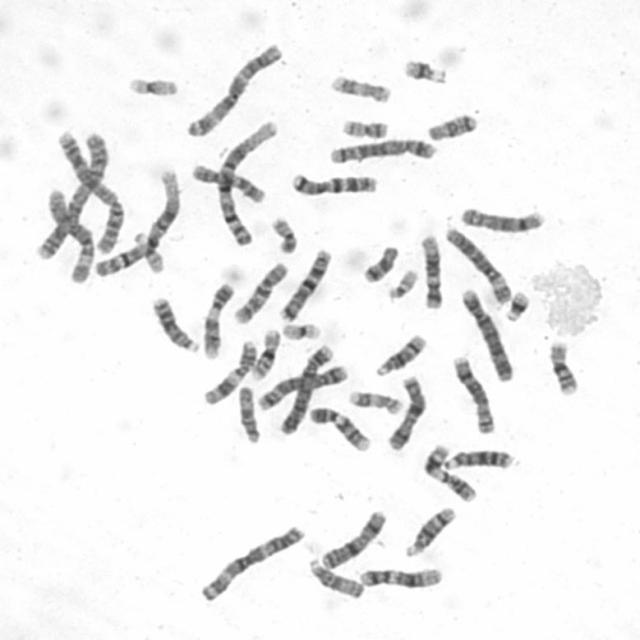A1: (90, 163, 184, 279), (212, 115, 281, 248)
A2: (33, 127, 112, 261), (53, 126, 129, 255)
A3: (181, 38, 286, 138), (196, 519, 308, 604)
B4: (458, 283, 516, 383), (275, 340, 335, 436)
B5: (253, 358, 350, 412), (326, 134, 440, 165)
C10: (230, 258, 291, 326), (187, 158, 267, 204)
C11: (198, 336, 260, 407), (420, 439, 480, 504)
C12: (356, 562, 446, 590), (417, 230, 446, 310)
C6: (441, 221, 514, 305), (42, 182, 98, 284)
C7: (276, 244, 334, 324), (288, 168, 382, 196)
C8: (448, 351, 498, 435), (456, 201, 547, 234)
C9: (306, 401, 373, 453), (200, 278, 237, 360)
D13: (149, 291, 202, 354), (439, 444, 516, 472)
D14: (401, 502, 458, 558), (370, 328, 429, 378)
D15: (306, 554, 366, 600), (234, 382, 263, 444)
E16: (546, 336, 582, 396), (246, 324, 282, 381)
E17: (326, 70, 394, 104), (345, 384, 405, 416)
E18: (359, 240, 402, 284), (424, 109, 480, 142)
F19: (123, 71, 181, 98), (278, 318, 324, 341)
F20: (267, 211, 301, 255), (338, 114, 390, 140)
G21: (398, 53, 451, 86), (501, 286, 532, 323)
G22: (129, 227, 167, 273), (384, 264, 419, 300)
X: (316, 505, 388, 571), (384, 371, 430, 452)
